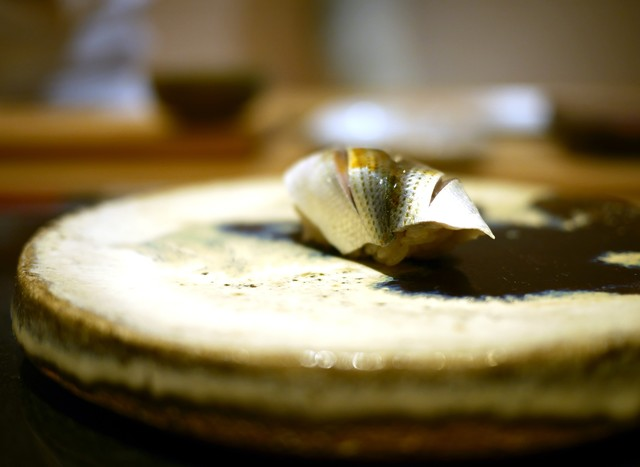spotted-shad: (277, 143, 506, 267)
